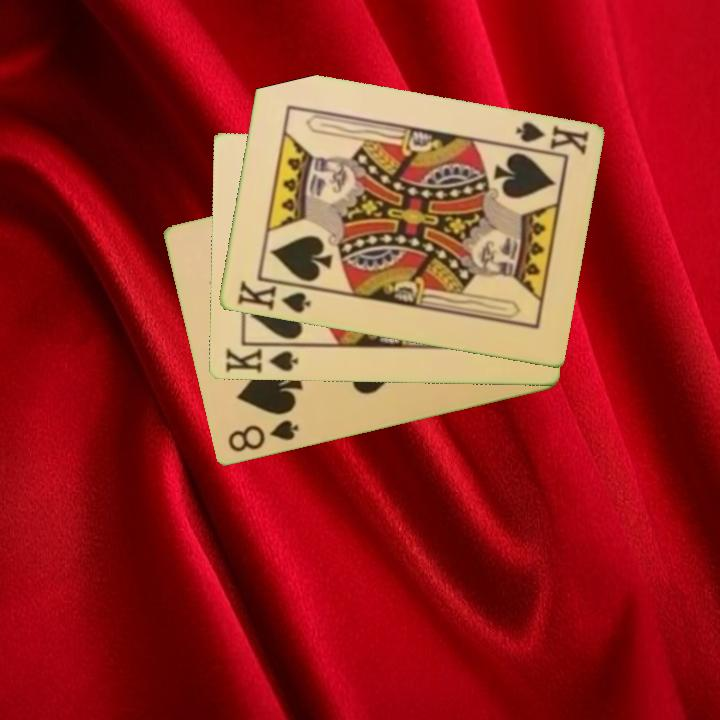8s: (224, 417, 302, 456)
Ks: (506, 118, 591, 158), (233, 276, 315, 317), (221, 341, 303, 377)
